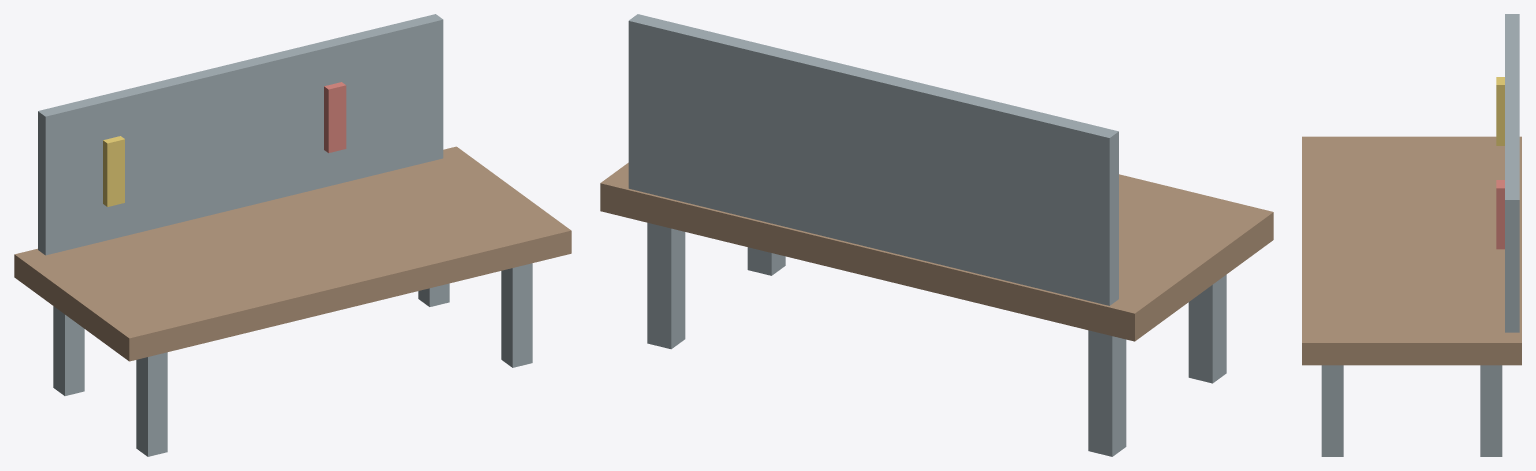
Rendered from workbench_lod1.glb.
3 views of the same model, side by side, from view 1: azimuth 30°, elevation 25°; view 2: azimuth 150°, elevation 25°; view 3: azimuth 270°, elevation 25° (orthographic). The views are drawn at different scales.
Visible parts, largest first — view 1: workbench-node-0, workbench-node-5, workbench-node-4, workbench-node-3, workbench-node-1, workbench-node-7, workbench-node-6, workbench-node-2; view 2: workbench-node-5, workbench-node-0, workbench-node-2, workbench-node-1, workbench-node-3, workbench-node-4; view 3: workbench-node-0, workbench-node-5, workbench-node-2, workbench-node-4, workbench-node-7, workbench-node-6.
Part boxes in pixels (x1,y1,x2,y2): workbench-node-0: [14, 146, 571, 361]; workbench-node-5: [38, 14, 443, 255]; workbench-node-4: [501, 263, 532, 367]; workbench-node-3: [136, 352, 167, 456]; workbench-node-1: [53, 306, 84, 395]; workbench-node-7: [324, 82, 346, 152]; workbench-node-6: [103, 136, 124, 206]; workbench-node-2: [418, 283, 449, 306]; workbench-node-5: [628, 14, 1118, 305]; workbench-node-0: [600, 162, 1273, 341]; workbench-node-2: [647, 222, 685, 349]; workbench-node-1: [1088, 330, 1126, 456]; workbench-node-3: [1188, 274, 1226, 383]; workbench-node-4: [747, 247, 785, 275]; workbench-node-0: [1302, 136, 1521, 365]; workbench-node-5: [1505, 14, 1519, 332]; workbench-node-2: [1480, 365, 1502, 456]; workbench-node-4: [1321, 365, 1343, 456]; workbench-node-7: [1496, 180, 1504, 249]; workbench-node-6: [1496, 77, 1504, 145].
Size of the model in its own units: 4 by 2.35 by 1.8.
